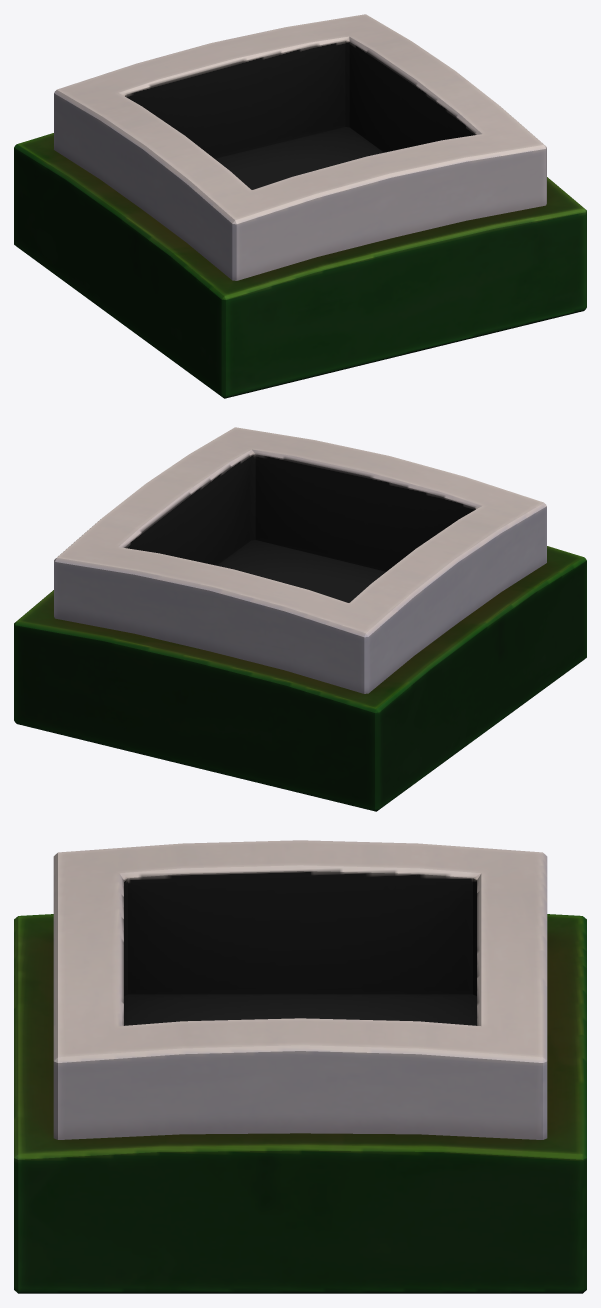
Rendered from trash.glb.
The picture shows the model from 3 angles, top to bottom: view 1: azimuth 30°, elevation 25°; view 2: azimuth 150°, elevation 25°; view 3: azimuth 270°, elevation 25°; orthographic projection. The views are drawn at different scales.
Parts seen in each view (by area): view 1: trash; view 2: trash; view 3: trash.
Boxes of the visible parts, <box> form: trash: <box>14,14,586,398</box>; trash: <box>14,427,586,811</box>; trash: <box>14,840,586,1293</box>.
Size of the model in its own units: 2 by 0.8957 by 2.
Materials: 1 (1 with a texture image).
